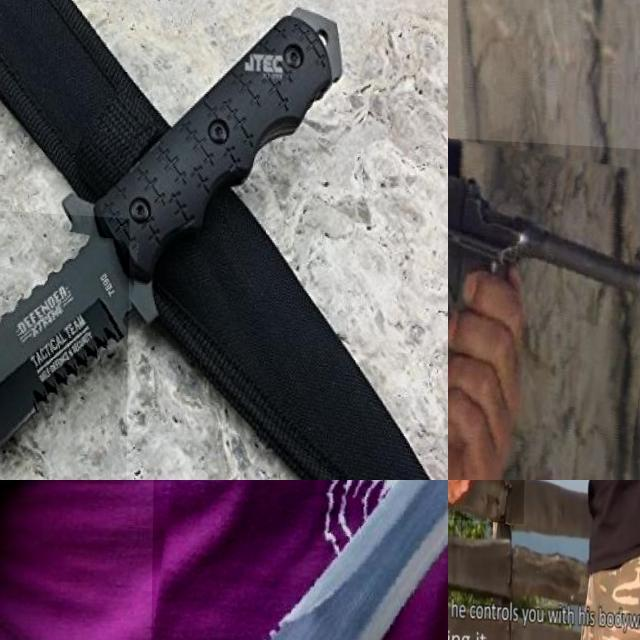-: (150, 480, 448, 640), (0, 200, 154, 480), (448, 480, 526, 544)
gun-knife-thesis - v11 Yolov5 augmented: (448, 128, 640, 480)
